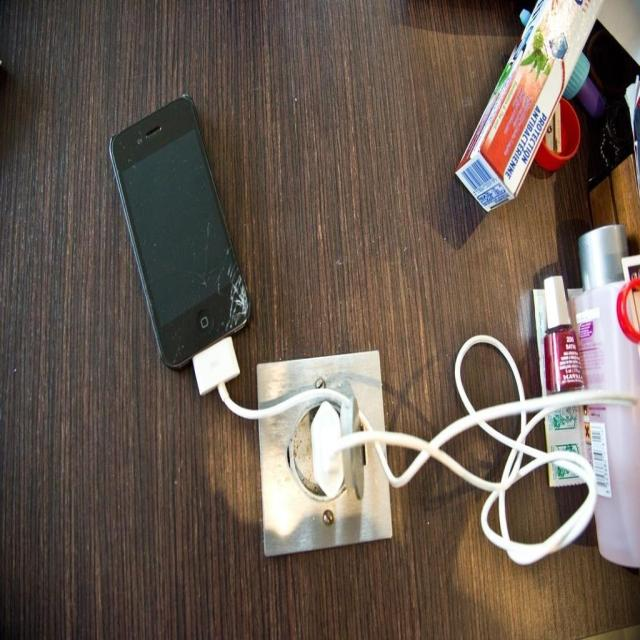Phone: (102, 90, 257, 392)
